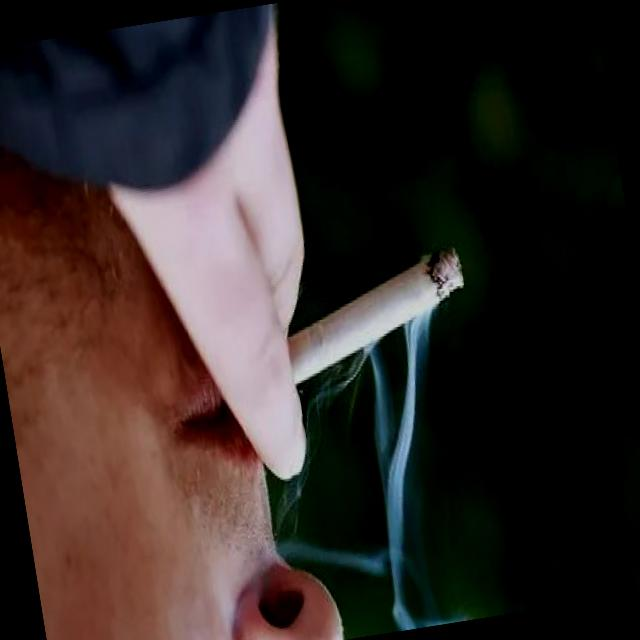cigarette: (266, 242, 484, 400)
